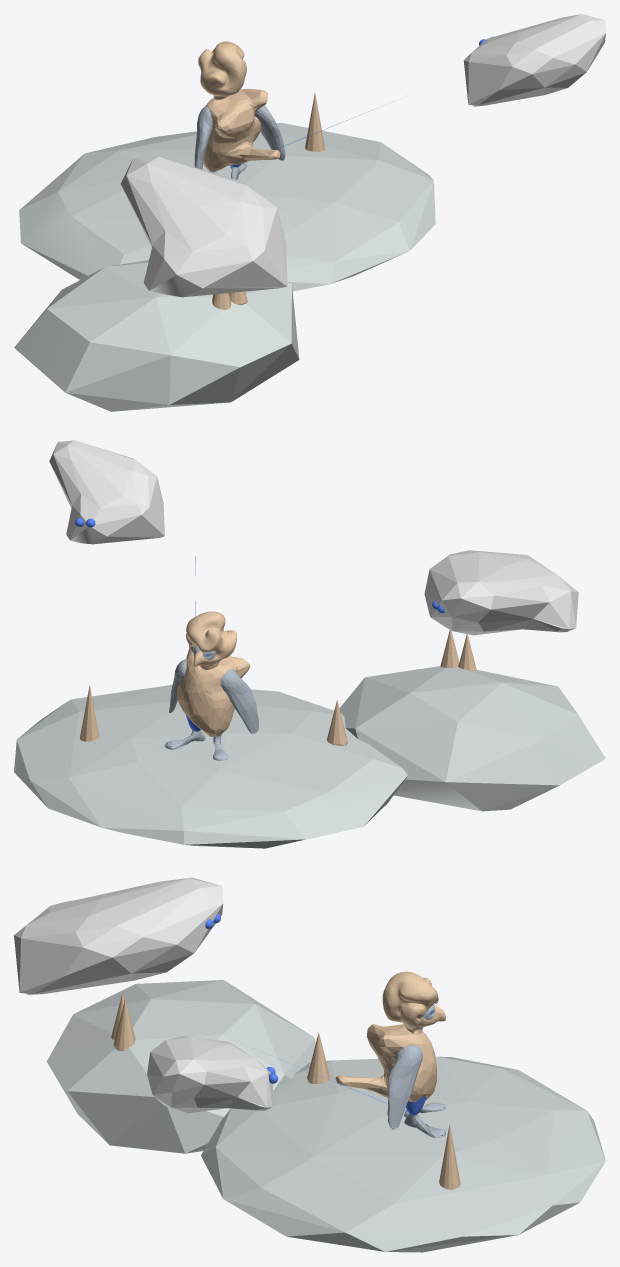
The model's file is asset.glb.
3 views of the same model, one above another, from view 1: azimuth 30°, elevation 25°; view 2: azimuth 150°, elevation 25°; view 3: azimuth 270°, elevation 25° (orthographic). The views are drawn at different scales.
Parts seen in each view (by area): view 1: 球體.005, 球體.001, 球體.022, 球體.017, 球體.003, 球體.002, 球體.013, 球體.012, 球體.006; view 2: 球體.005, 球體.001, 球體.022, 球體.017, 球體.003, 球體.002, 球體.012, 球體.006, 球體.004; view 3: 球體.005, 球體.001, 球體.022, 球體.017, 球體.003, 球體.002, 球體.013, 球體.006, 球體.004, 球體.007.
Boxes of the visible parts, x1=… form: 球體.005: x1=19, y1=122, x2=435, y2=291; 球體.001: x1=14, y1=260, x2=299, y2=411; 球體.022: x1=120, y1=157, x2=287, y2=297; 球體.017: x1=463, y1=14, x2=605, y2=106; 球體.003: x1=203, y1=88, x2=280, y2=172; 球體.002: x1=198, y1=41, x2=246, y2=99; 球體.013: x1=254, y1=105, x2=285, y2=160; 球體.012: x1=194, y1=106, x2=212, y2=169; 球體.006: x1=305, y1=93, x2=325, y2=151; 球體.005: x1=14, y1=684, x2=407, y2=848; 球體.001: x1=339, y1=666, x2=605, y2=811; 球體.022: x1=424, y1=550, x2=578, y2=635; 球體.017: x1=49, y1=440, x2=164, y2=544; 球體.003: x1=177, y1=647, x2=250, y2=736; 球體.002: x1=186, y1=611, x2=236, y2=669; 球體.012: x1=220, y1=669, x2=258, y2=733; 球體.006: x1=80, y1=684, x2=98, y2=741; 球體.004: x1=327, y1=700, x2=347, y2=745; 球體.005: x1=201, y1=1056, x2=605, y2=1252; 球體.001: x1=46, y1=980, x2=315, y2=1153; 球體.022: x1=14, y1=877, x2=223, y2=994; 球體.017: x1=147, y1=1036, x2=273, y2=1113; 球體.003: x1=335, y1=1024, x2=436, y2=1102; 球體.002: x1=382, y1=971, x2=445, y2=1034; 球體.013: x1=387, y1=1045, x2=422, y2=1129; 球體.006: x1=439, y1=1124, x2=460, y2=1189; 球體.004: x1=307, y1=1032, x2=330, y2=1083; 球體.007: x1=113, y1=999, x2=135, y2=1050.
Size of the model in its own units: 3.49 by 1.59 by 3.
